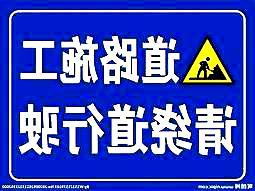sign: (8, 7, 247, 183)
